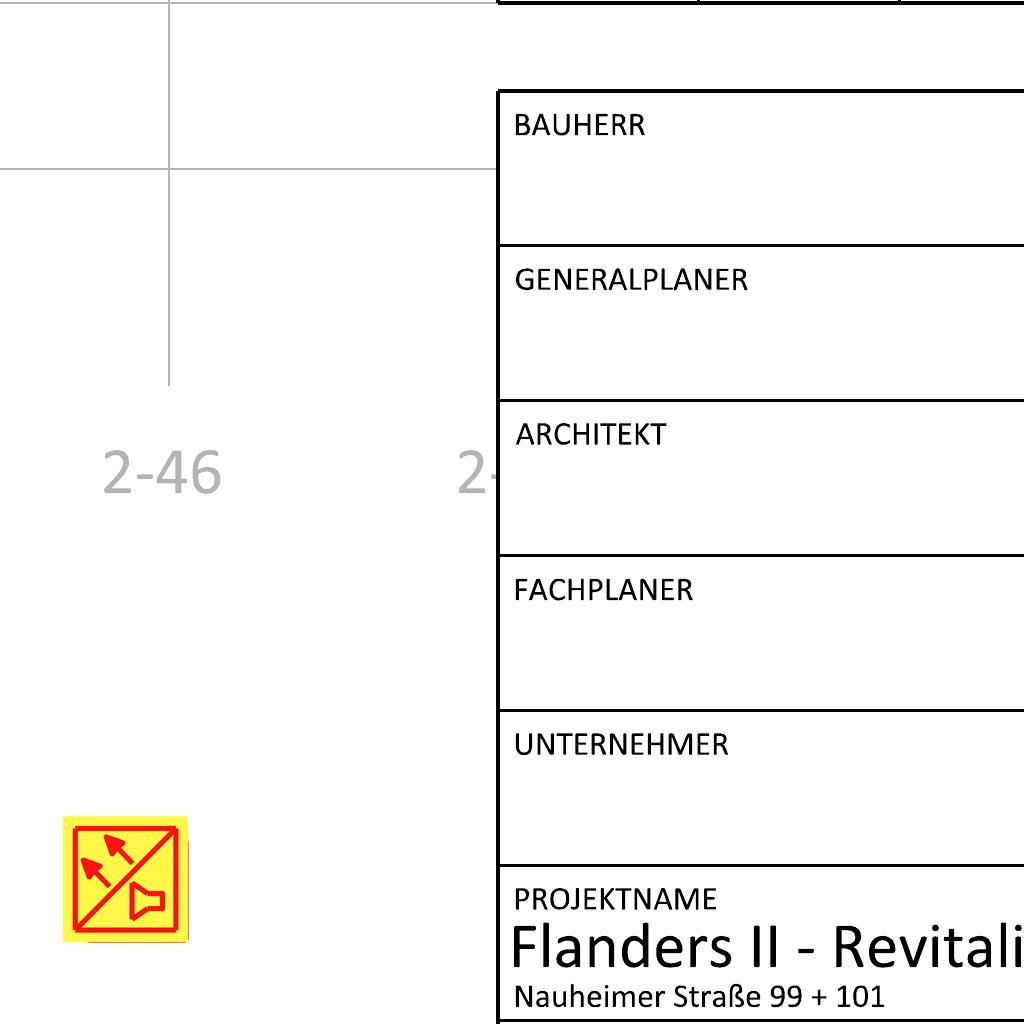OKW_Multisensormelder_(Kombination_optischer_Rauch-Kahlenmonoxid_Waerme-Melder): (60, 813, 192, 945)
